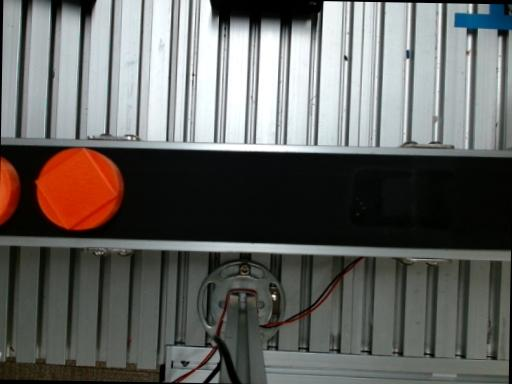Orange_Waper: (35, 147, 124, 230), (0, 157, 21, 224)
Square: (34, 148, 118, 230)
